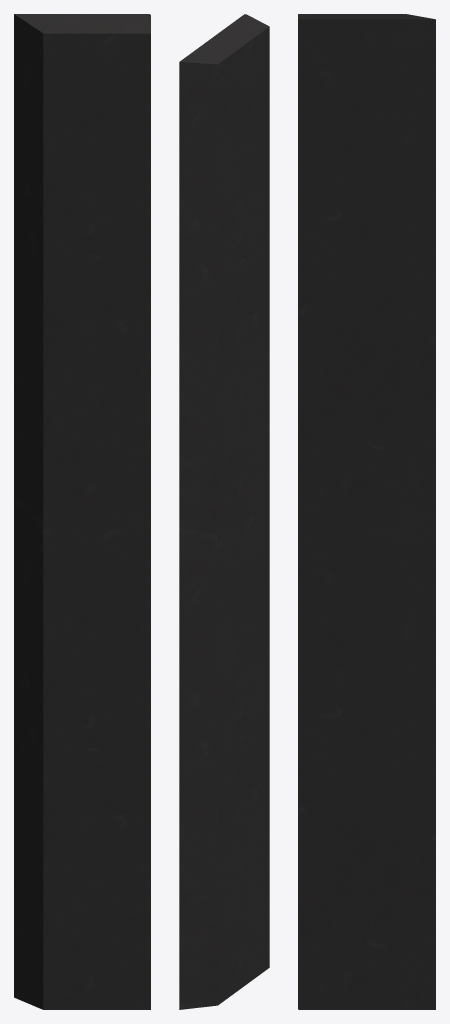
The model's file is A13.1.1 H.WALL. PNL 5551 CR.D.fbx.
The picture shows the model from 3 angles, left to right: view 1: azimuth 90°, elevation 25°; view 2: azimuth 150°, elevation 25°; view 3: azimuth 270°, elevation 25°; orthographic projection. The views are drawn at different scales.
Visible parts, largest first — view 1: Model; view 2: Model; view 3: Model.
Part boxes in pixels (left/top/right/bottom): Model: left=14, top=14, right=150, bottom=1009; Model: left=179, top=14, right=269, bottom=1009; Model: left=298, top=14, right=435, bottom=1009.
Size of the model in its own units: 150 by 5551 by 700.
1 material, 1 textured.
